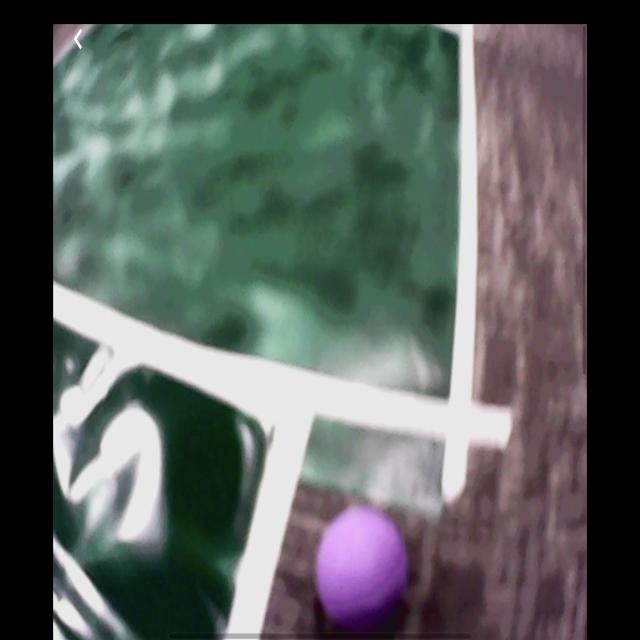ball: (314, 503, 410, 630)
